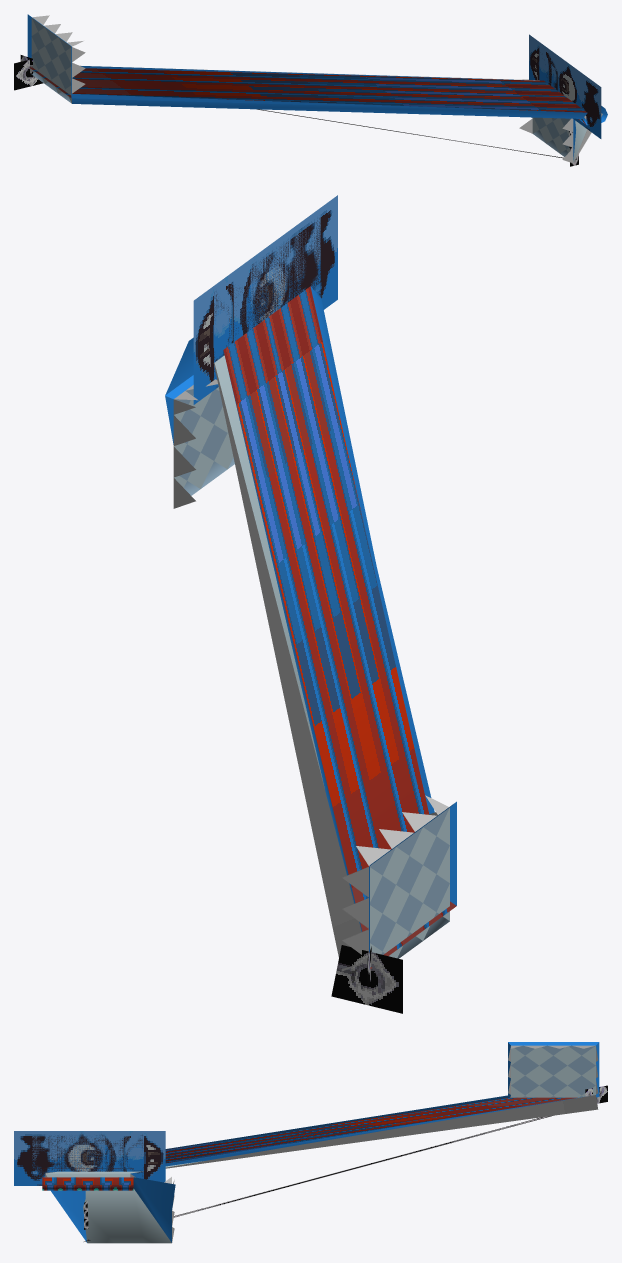
3 views of the same model, one above another, from view 1: azimuth 30°, elevation 25°; view 2: azimuth 150°, elevation 25°; view 3: azimuth 270°, elevation 25° (orthographic). The views are drawn at different scales.
Visible parts, largest first — view 1: npc_hon_b; view 2: npc_hon_b; view 3: npc_hon_b.
Part boxes in pixels (x1,y1,x2,y2): npc_hon_b: (14,14,607,166); npc_hon_b: (165,195,456,1013); npc_hon_b: (14,1042,607,1243).
Bounding box in the file's own units: 6.35 × 2.4 × 9.41.
Materials: 11 (11 with a texture image).
